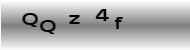4: (95, 7, 109, 21)
Q: (38, 19, 57, 35), (21, 12, 39, 28)
f: (114, 15, 123, 30)
z: (67, 13, 81, 25)
